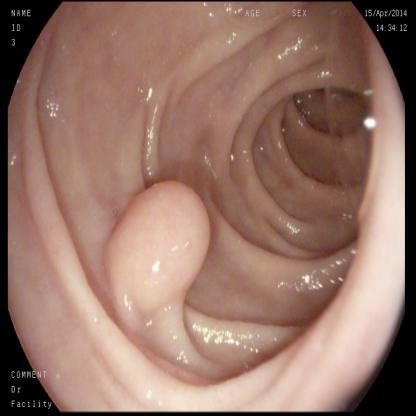Labels: (6, 0, 41, 60), (9, 369, 57, 412)
Polyps: (119, 180, 215, 315)
